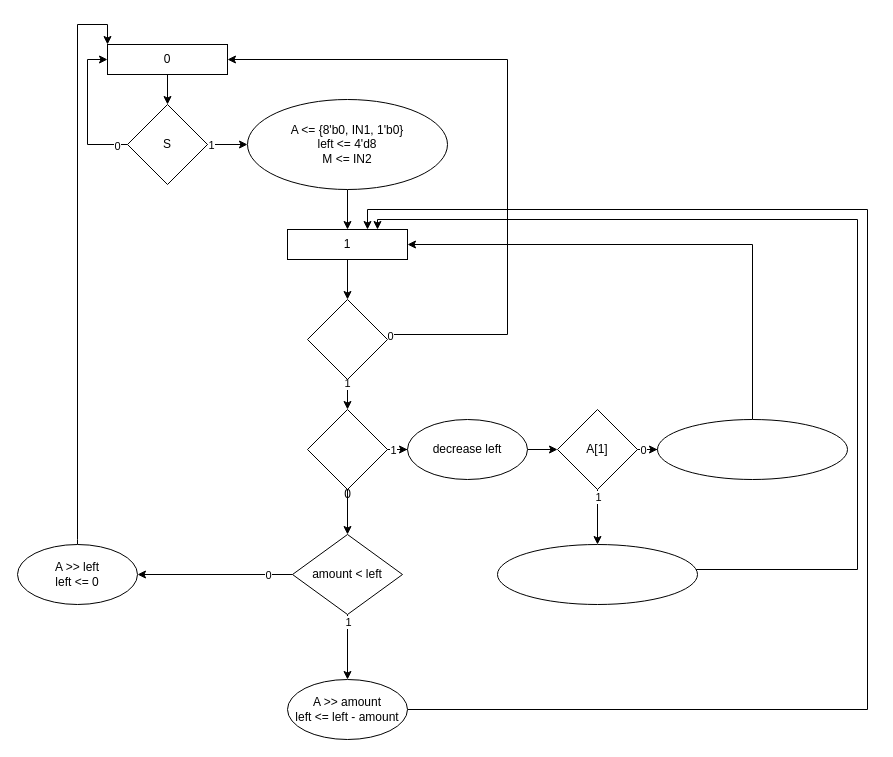
Image size: 893x757. Some labels were removed from this diagram. The centre of each missing label's shape, as x and y in pixels:
"A <= {add[7] , add , A[7:1]}" goes at (752,449).
"A <= {subtract[7] ,subtract , A[7:1]}" goes at (597,574).
"A[1] xor A[0]" goes at (347,449).
"OR(left)" goes at (347,339).
